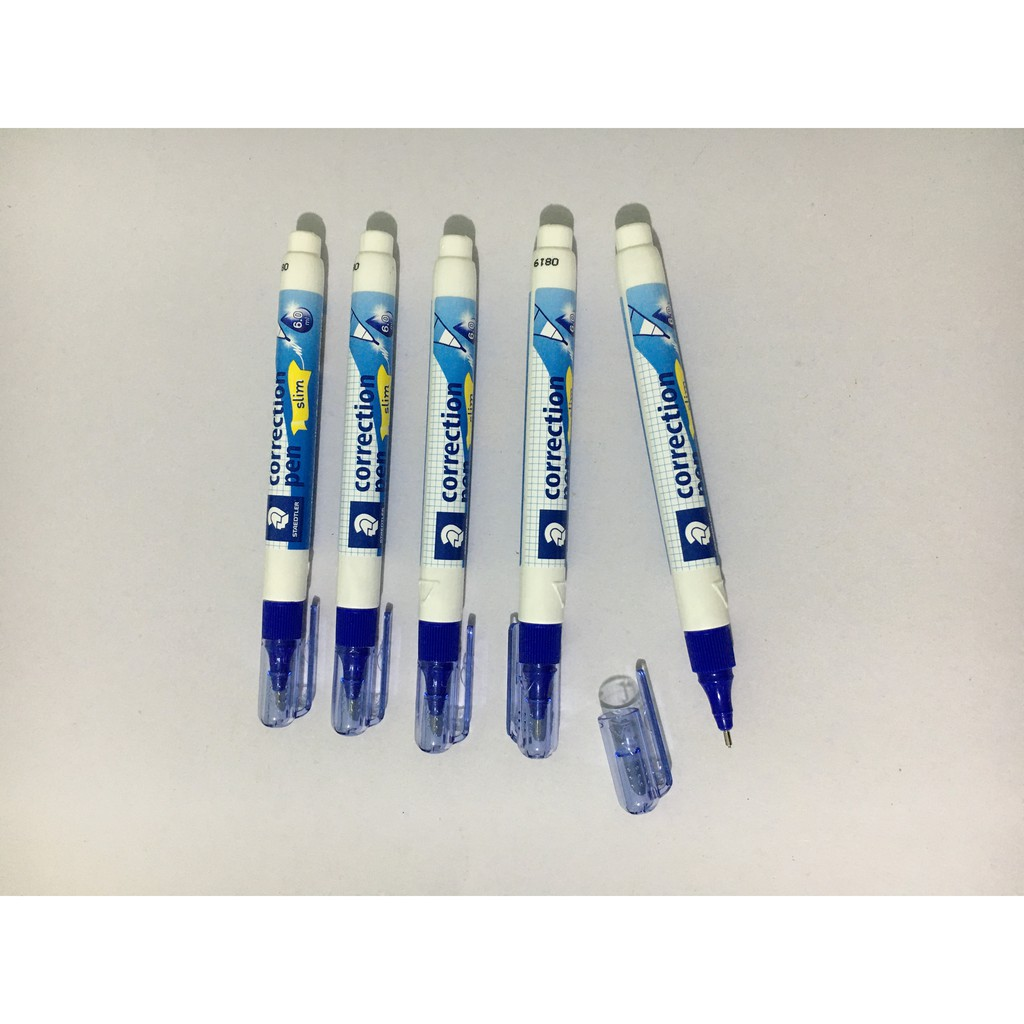Correction_fluid: (604, 211, 759, 762), (498, 218, 587, 759), (411, 223, 490, 760), (327, 223, 401, 742), (249, 223, 324, 730)
